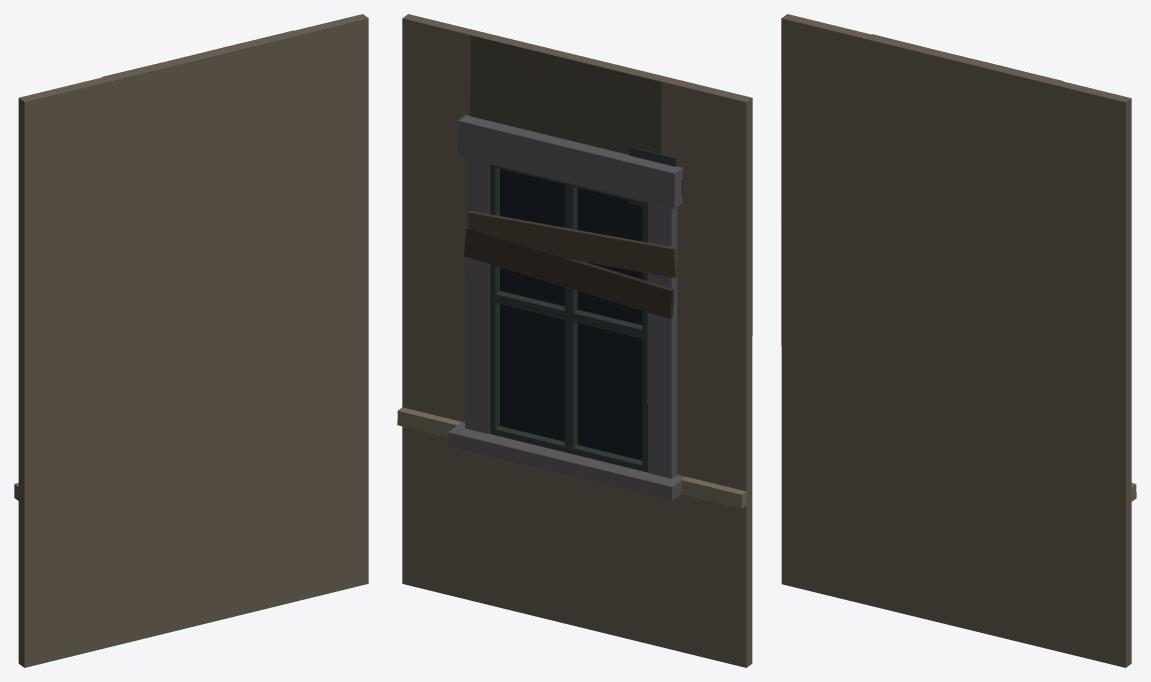
File: SM_ENV_FachadaJanelaAlta.fbx
3 views of the same model, side by side, from view 1: azimuth 30°, elevation 25°; view 2: azimuth 150°, elevation 25°; view 3: azimuth 330°, elevation 25° (orthographic).
Visible parts, largest first — view 1: SM_ENV_FachadaJanelaAlta; view 2: SM_ENV_FachadaJanelaAlta; view 3: SM_ENV_FachadaJanelaAlta.
Boxes of the visible parts, bbox=[...] form: SM_ENV_FachadaJanelaAlta: bbox=[14, 14, 368, 667]; SM_ENV_FachadaJanelaAlta: bbox=[397, 14, 752, 667]; SM_ENV_FachadaJanelaAlta: bbox=[781, 14, 1136, 667].
Bounding box in the file's own units: 2 × 3.14 × 0.2014.
